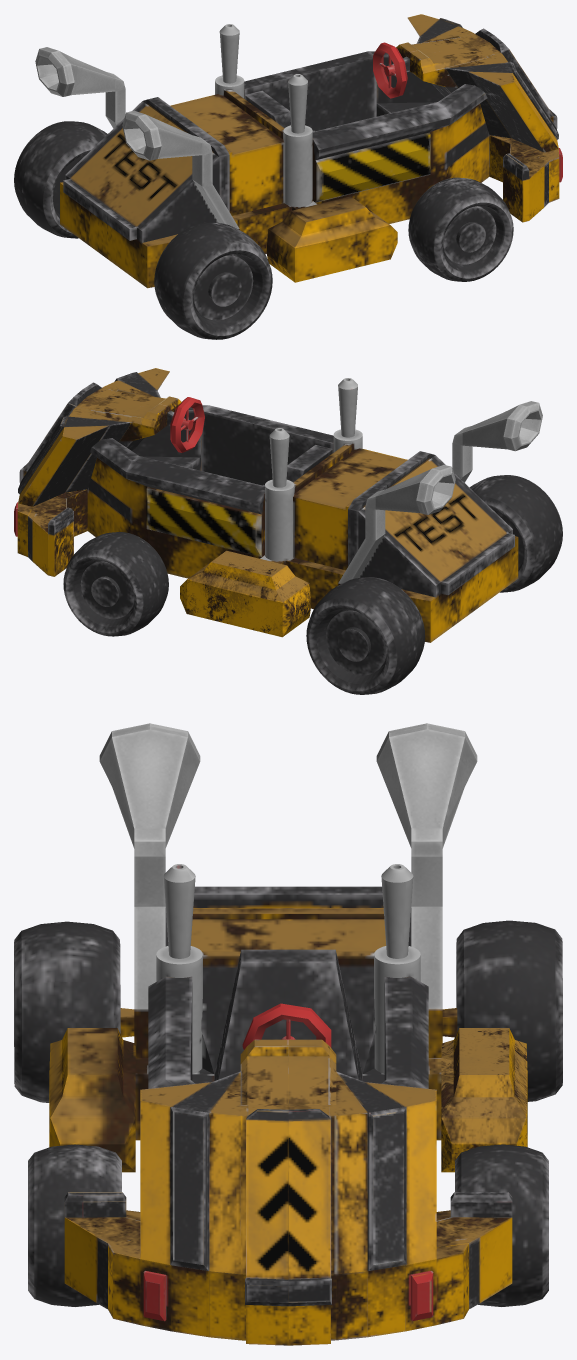
File: kart_physics.obj
The picture shows the model from 3 angles, top to bottom: view 1: azimuth 30°, elevation 25°; view 2: azimuth 150°, elevation 25°; view 3: azimuth 270°, elevation 25°; orthographic projection. The views are drawn at different scales.
Parts seen in each view (by area): view 1: kart_Cylinder.002; view 2: kart_Cylinder.002; view 3: kart_Cylinder.002.
Part boxes in pixels (x1,y1,x2,y2): kart_Cylinder.002: (14, 14, 562, 339); kart_Cylinder.002: (14, 368, 562, 694); kart_Cylinder.002: (14, 723, 562, 1345).
Size of the model in its own units: 3.95 by 1.79 by 2.59.
Materials: 1 (1 with a texture image).
